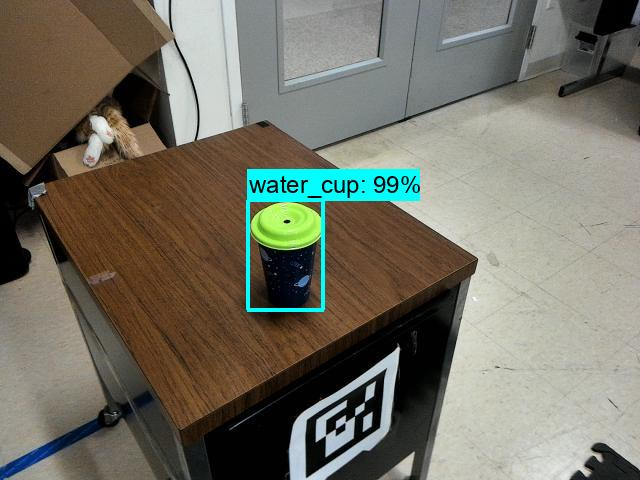water_cup: (250, 198, 325, 311)
